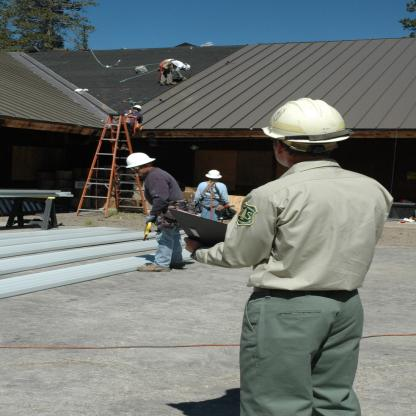Helmet: (270, 94, 350, 165), (124, 153, 160, 170), (205, 169, 224, 180), (187, 62, 193, 70)
